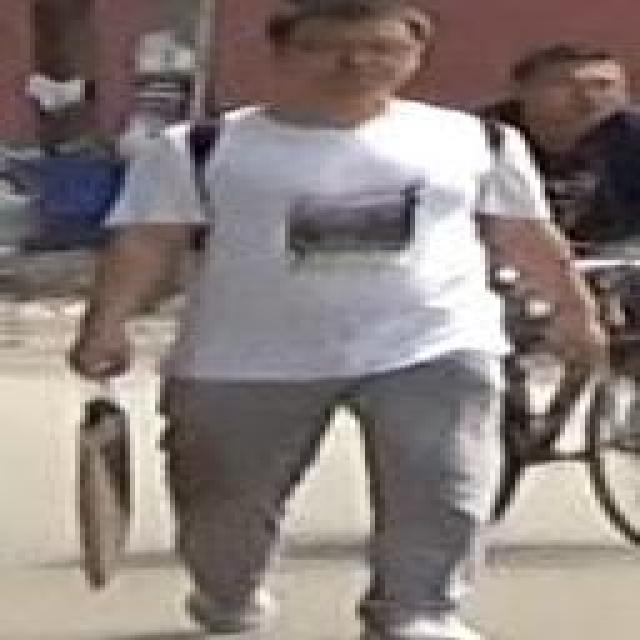adult: (96, 0, 543, 640), (465, 40, 640, 445)
